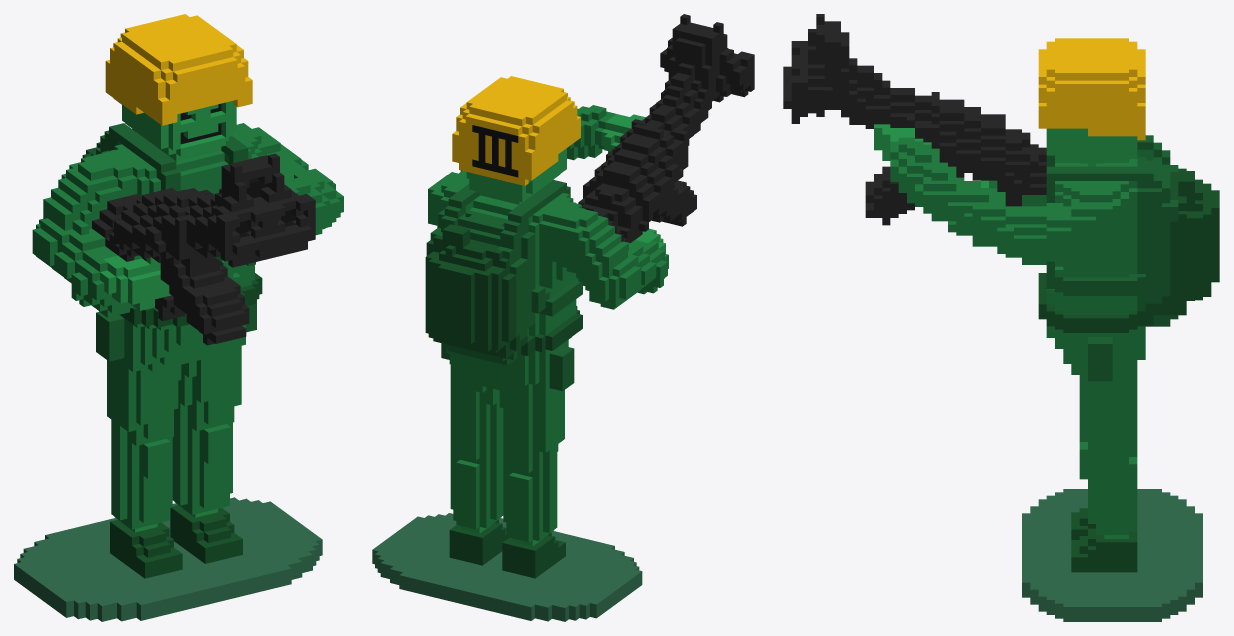
The model's file is gun_up_soldier_LVL3_3.0.obj.
3 views of the same model, side by side, from view 1: azimuth 30°, elevation 25°; view 2: azimuth 150°, elevation 25°; view 3: azimuth 270°, elevation 25° (orthographic). The views are drawn at different scales.
Bounding box in the file's own units: 3.5 × 6.8 × 5.3.
1 material, 1 textured.
